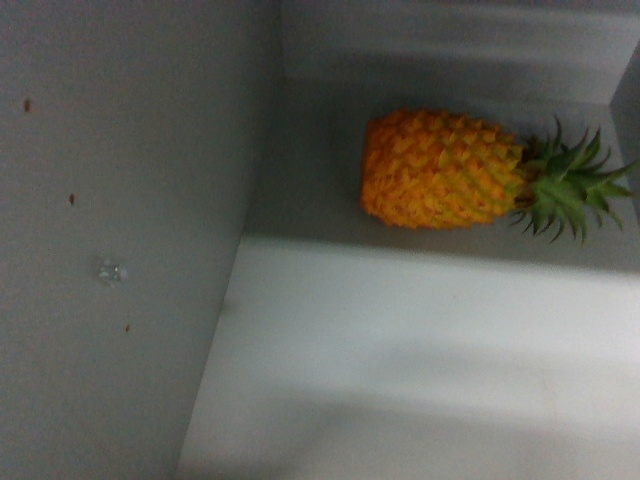pineapple: (358, 102, 640, 244)
